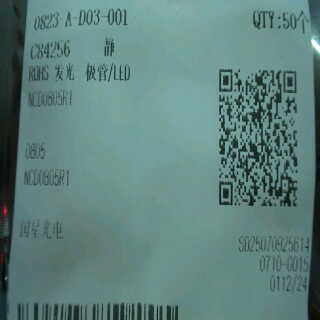LED: (48, 61, 147, 85)
